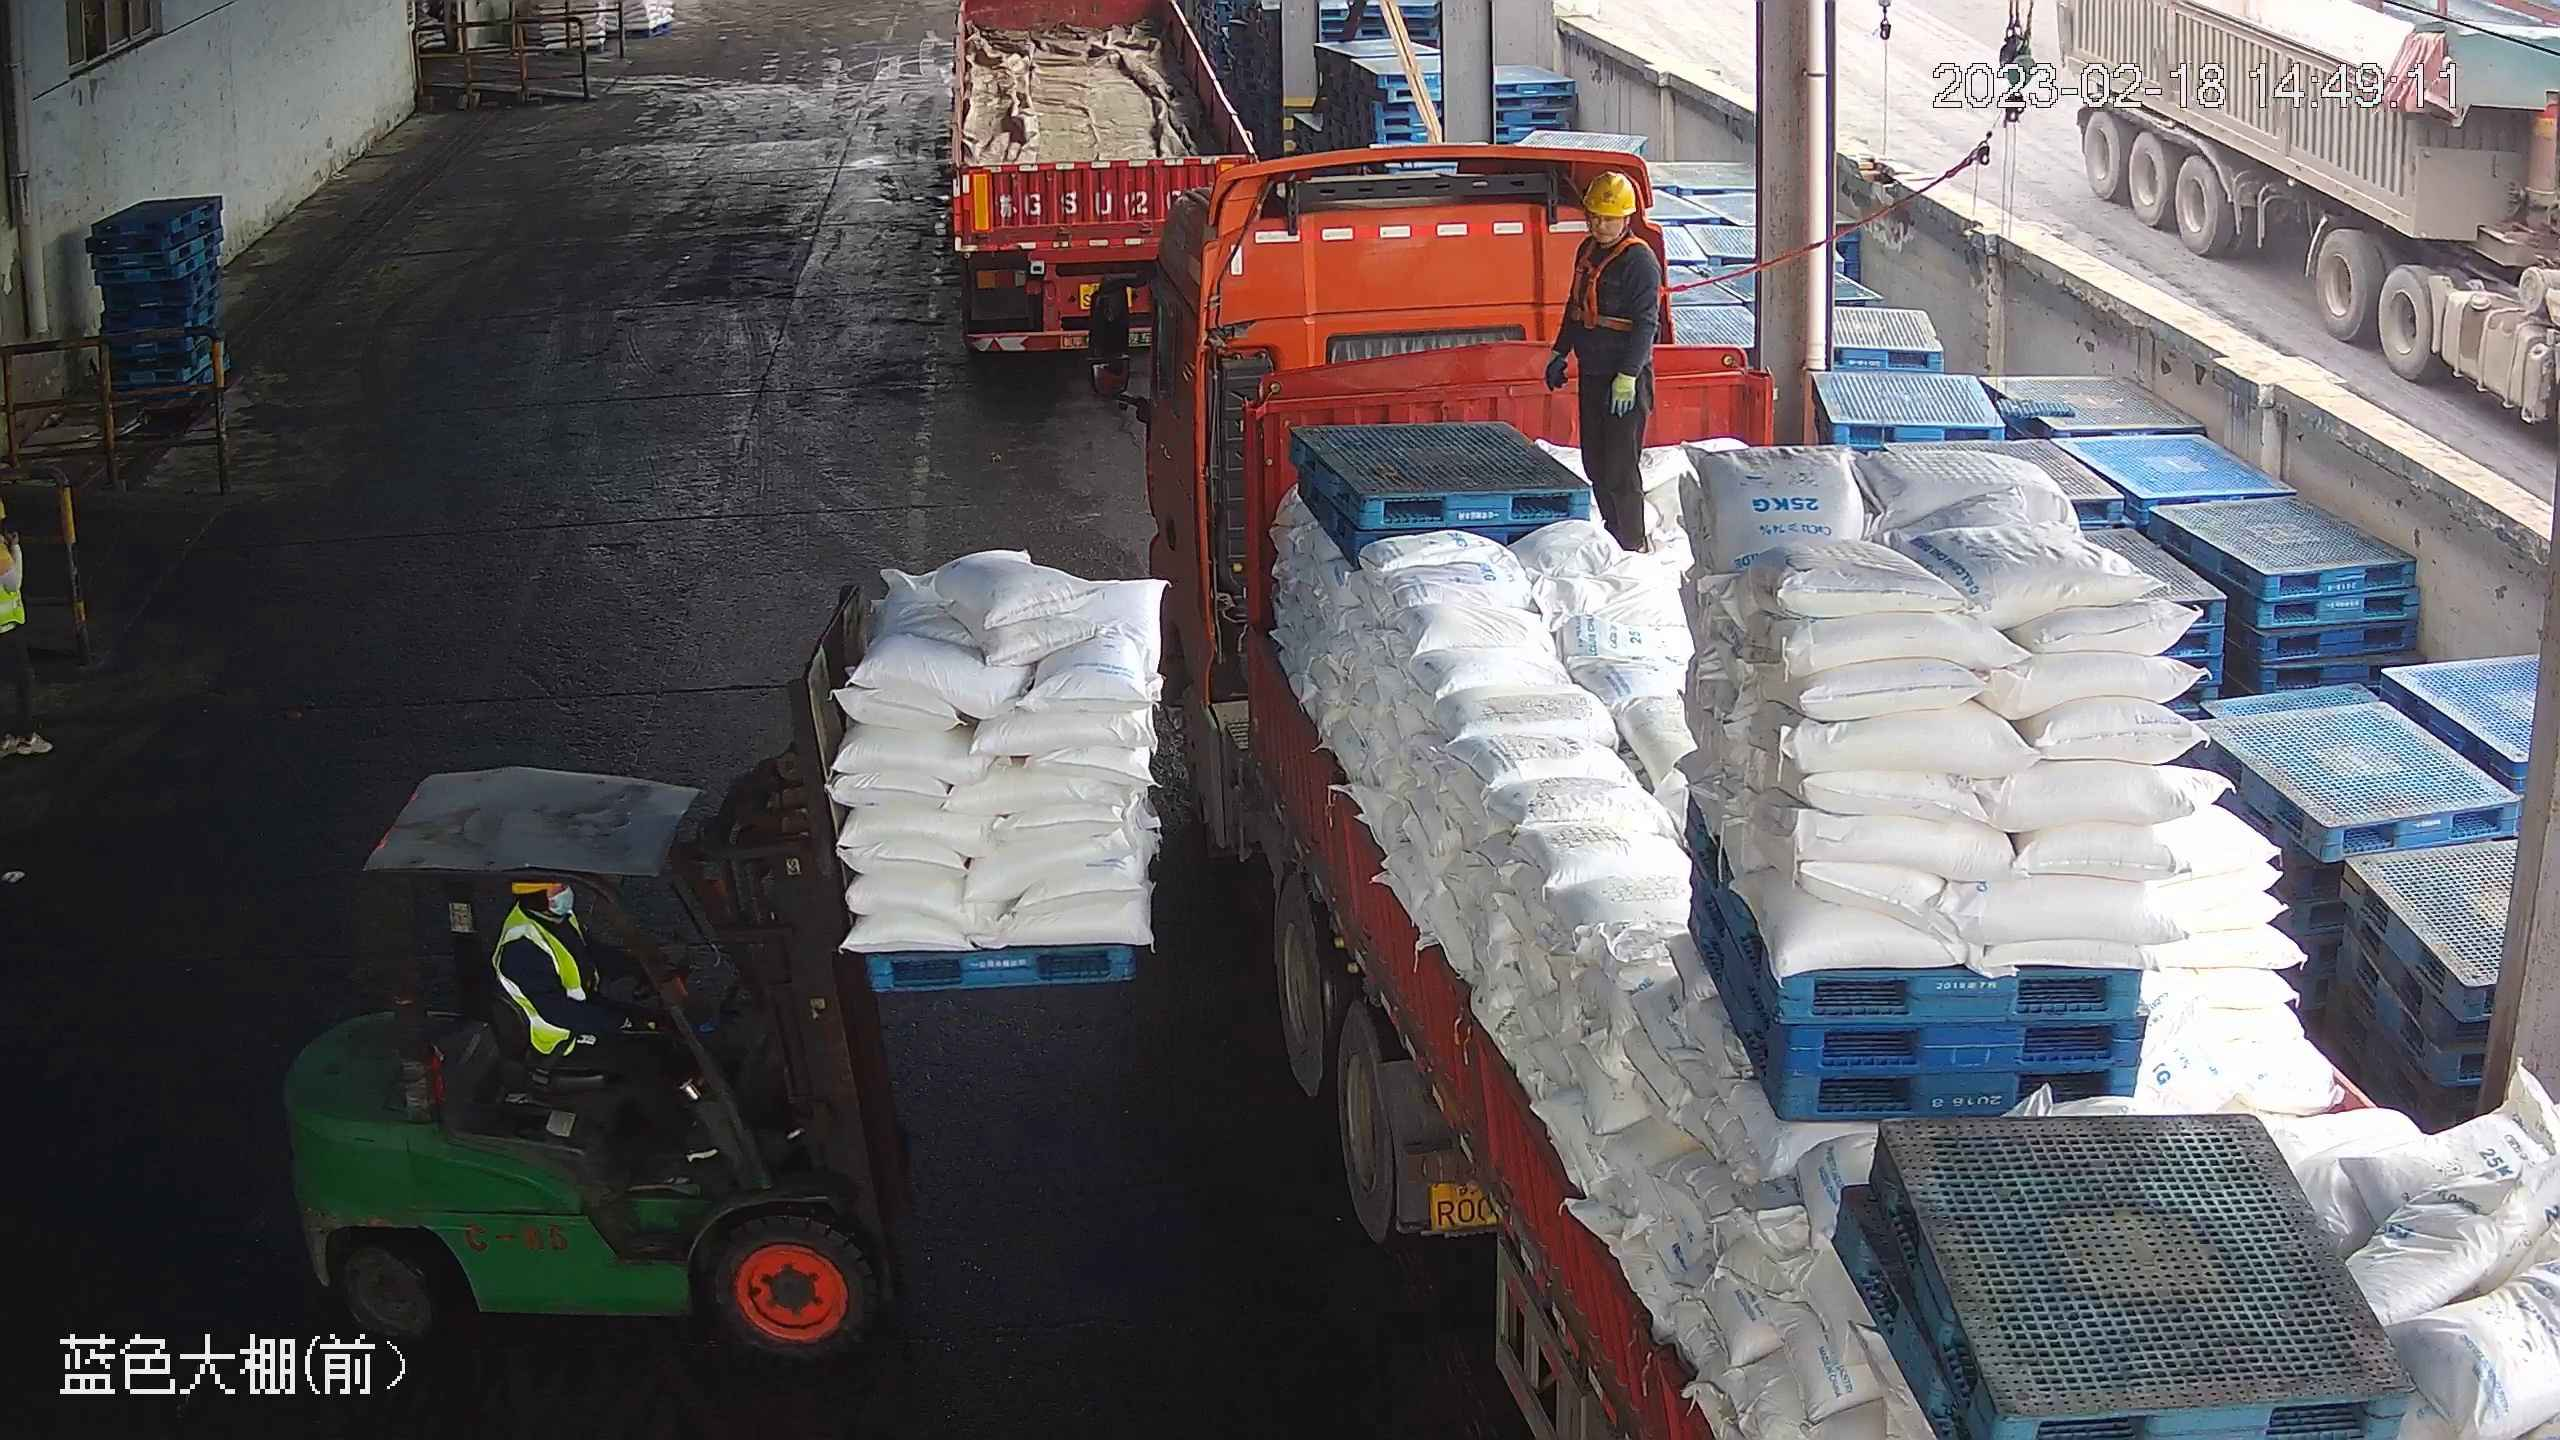belt: (1564, 229, 1661, 332)
head: (1563, 167, 1670, 291), (492, 877, 583, 976)
helmet: (1583, 167, 1643, 218)
people: (489, 873, 688, 1149), (1541, 164, 1671, 558)
truck: (1116, 154, 2560, 1440), (922, 1, 1288, 360)
